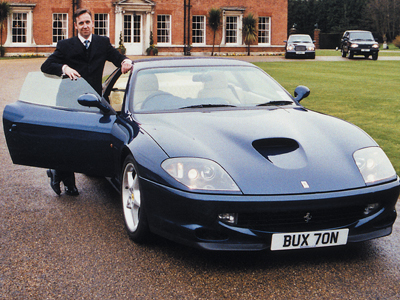licencePlate: (271, 231, 348, 249)
